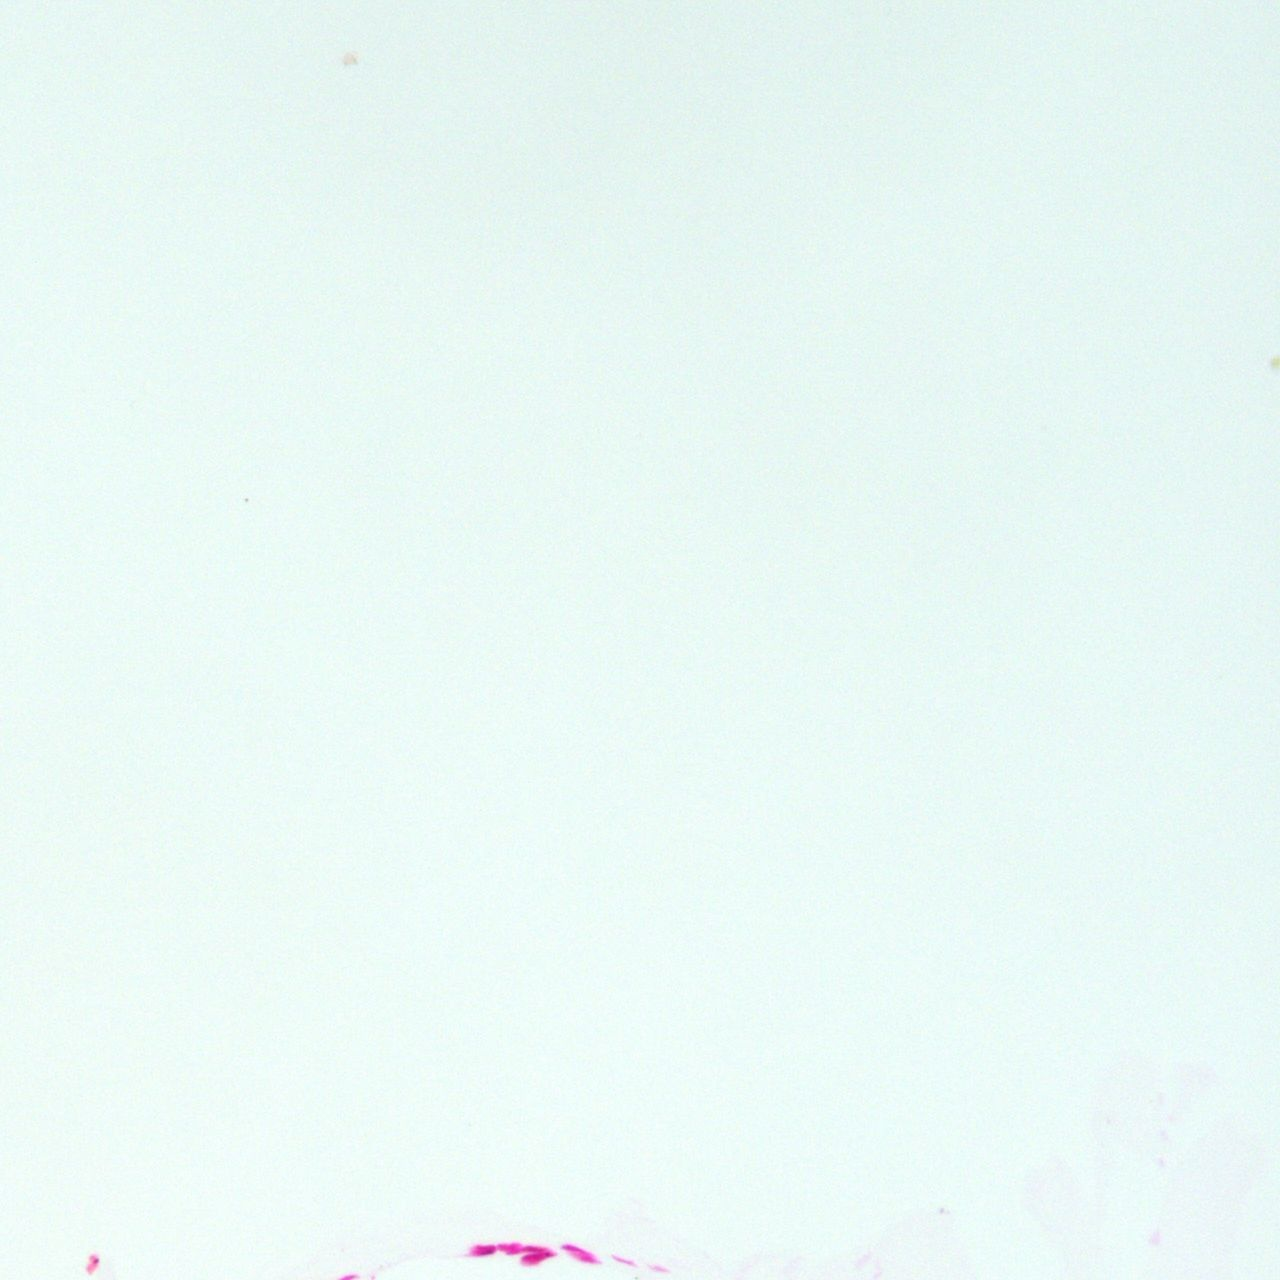nucleus-FG: (472, 1245, 495, 1255)
